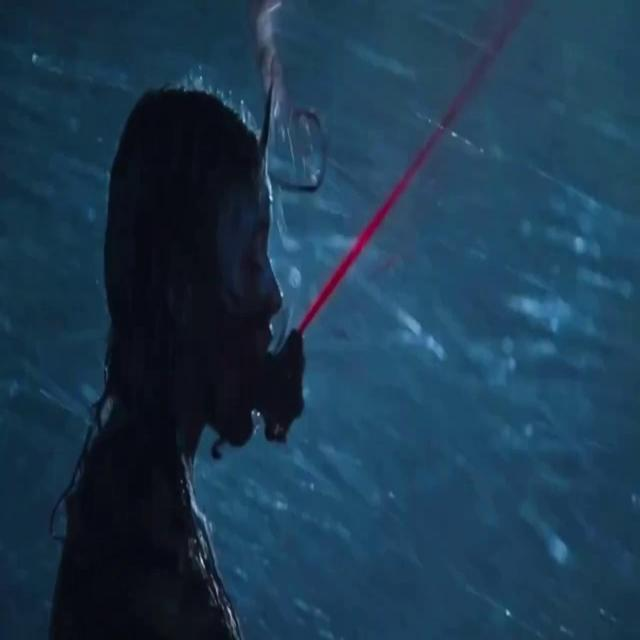flood: (276, 45, 520, 342)
